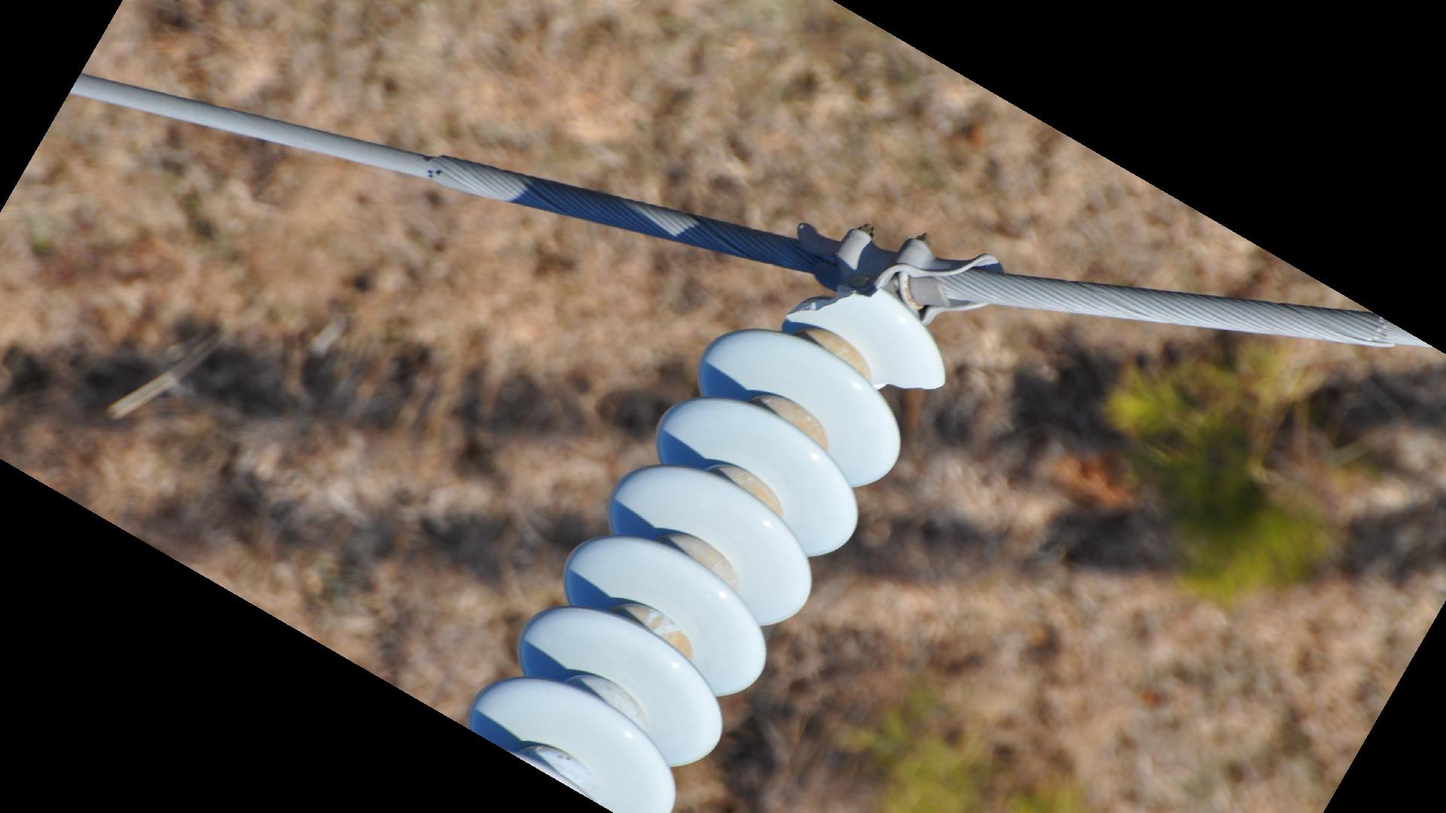insulator: (462, 278, 956, 813)
insulator_breakage: (776, 273, 889, 330), (865, 357, 953, 399)
